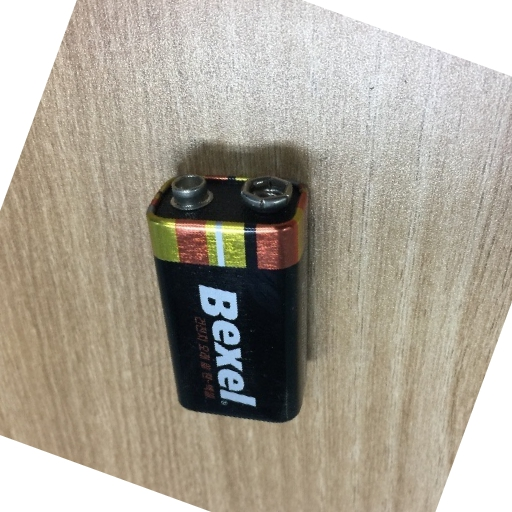Battery_3: (130, 153, 339, 451)
